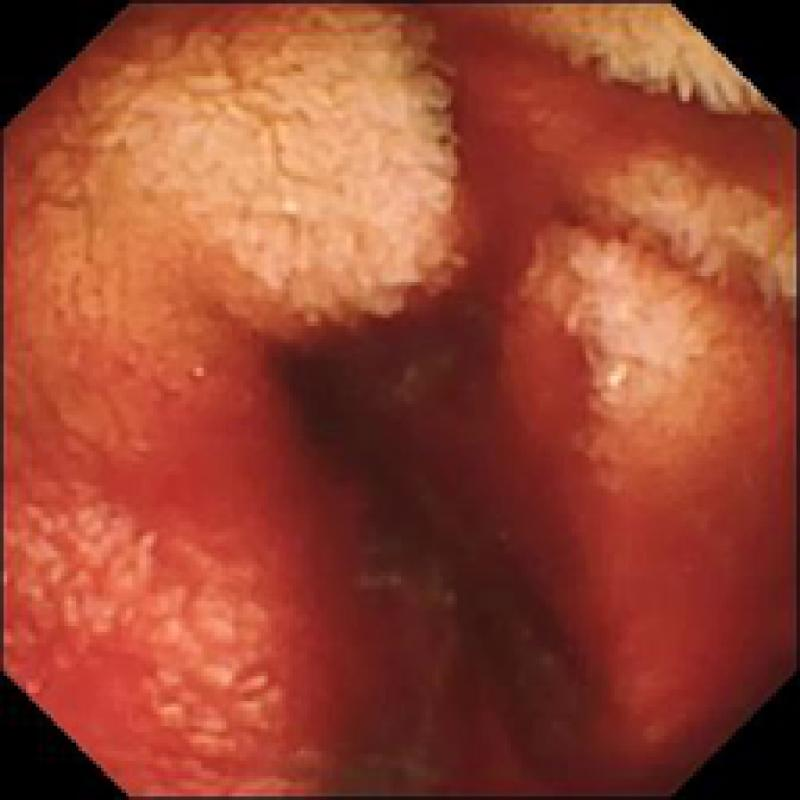bleeding: (18, 0, 800, 796)
